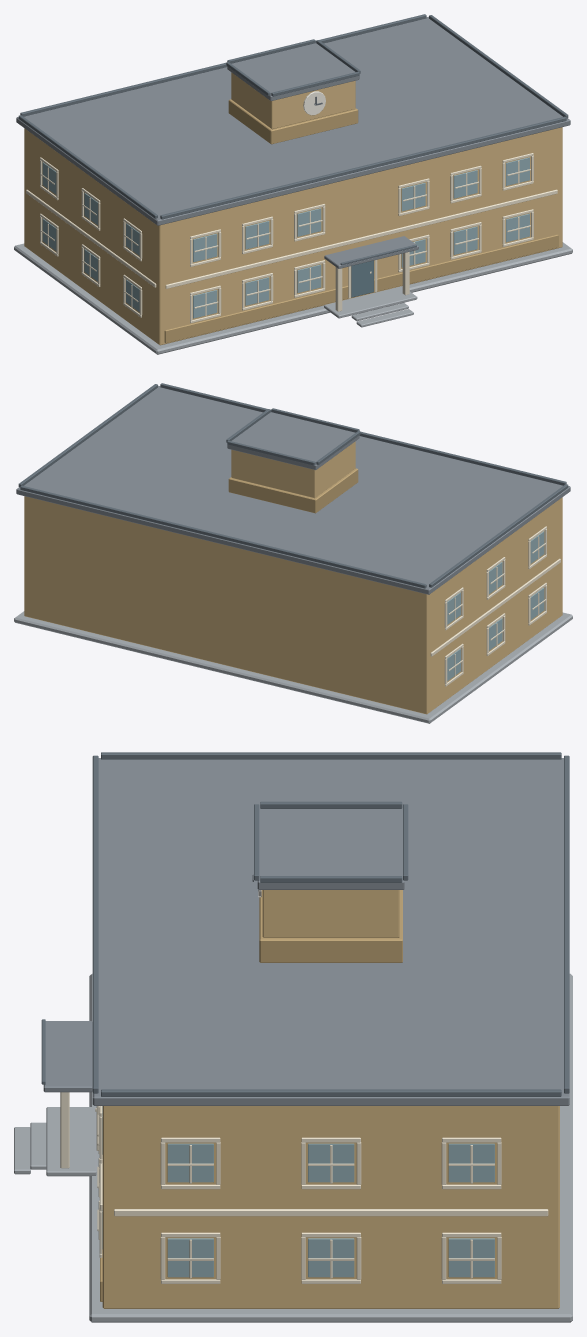
Rendered from FTF_Building_School_Ontario_LowPoly_24x16m.glb.
3 renders of one model, top to bottom at view 1: azimuth 30°, elevation 25°; view 2: azimuth 150°, elevation 25°; view 3: azimuth 270°, elevation 25°, orthographic. The views are drawn at different scales.
Parts seen in each view (by area): view 1: FTF_Building_School_Ontario_LowPoly_24x16m; view 2: FTF_Building_School_Ontario_LowPoly_24x16m; view 3: FTF_Building_School_Ontario_LowPoly_24x16m.
Part boxes in pixels (bbox=[...]): FTF_Building_School_Ontario_LowPoly_24x16m: bbox=[14, 14, 572, 354]; FTF_Building_School_Ontario_LowPoly_24x16m: bbox=[14, 383, 572, 723]; FTF_Building_School_Ontario_LowPoly_24x16m: bbox=[14, 752, 572, 1322].
Size of the model in its own units: 24.8 by 10.58 by 17.11.
